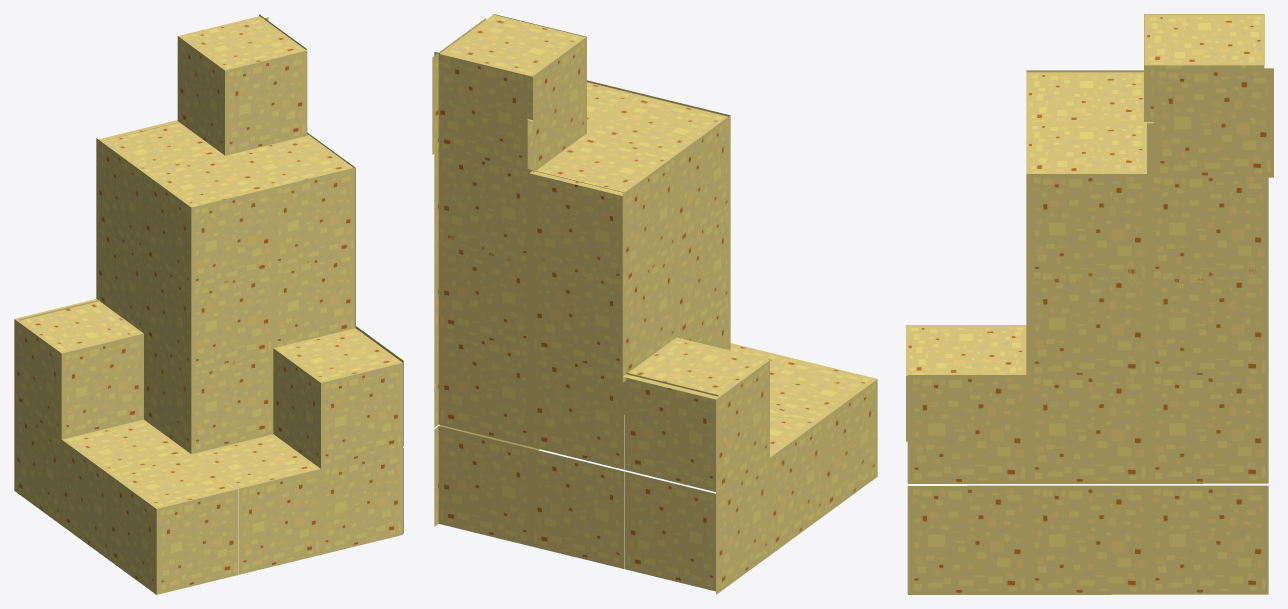
File: wall_1_closed.gltf
3 renders of one model, left to right at view 1: azimuth 30°, elevation 25°; view 2: azimuth 150°, elevation 25°; view 3: azimuth 270°, elevation 25°, orthographic. The views are drawn at different scales.
Parts seen in each view (by area): view 1: Plane, Plane.008, Plane.016, Plane.028, Plane.009, Plane.010, Plane.003, Plane.022, Plane.011, Plane.023, Plane.019, Plane.001 (+19 smaller); view 2: Plane.032, Plane.033, Plane.036, Plane.035, Plane.038, Plane.039, Plane.031, Plane.042, Plane.040, Plane.034, Plane.041, Plane.025 (+18 smaller); view 3: Plane.044, Plane.047, Plane.043, Plane.050, Plane.046, Plane.037, Plane.045, Plane.048, Plane.049, Plane.051, Plane.052, Plane.030 (+4 smaller).
Part boxes in pixels (<box>): Plane: <box>156,489,238,594</box>; Plane.008: <box>61,333,143,439</box>; Plane.016: <box>191,268,273,373</box>; Plane.028: <box>225,50,307,155</box>; Plane.009: <box>321,449,402,554</box>; Plane.010: <box>321,363,402,468</box>; Plane.003: <box>239,469,320,574</box>; Plane.022: <box>191,187,273,292</box>; Plane.011: <box>191,354,273,453</box>; Plane.023: <box>273,167,355,273</box>; Plane.019: <box>273,247,355,347</box>; Plane.001: <box>109,474,156,594</box>; Plane.032: <box>531,449,624,568</box>; Plane.033: <box>438,426,531,546</box>; Plane.036: <box>438,328,531,446</box>; Plane.035: <box>531,349,624,469</box>; Plane.038: <box>531,255,622,374</box>; Plane.039: <box>438,232,531,351</box>; Plane.031: <box>625,471,715,591</box>; Plane.042: <box>438,149,531,267</box>; Plane.040: <box>434,51,527,171</box>; Plane.034: <box>625,372,718,491</box>; Plane.041: <box>531,170,624,289</box>; Plane.025: <box>622,155,676,291</box>; Plane.044: <box>1148,485,1268,594</box>; Plane.047: <box>1148,374,1268,483</box>; Plane.043: <box>1028,485,1148,594</box>; Plane.050: <box>1153,68,1273,177</box>; Plane.046: <box>1028,374,1148,483</box>; Plane.037: <box>907,485,1027,594</box>; Plane.045: <box>907,375,1027,483</box>; Plane.048: <box>1028,269,1148,378</box>; Plane.049: <box>1148,269,1268,377</box>; Plane.051: <box>1028,174,1148,283</box>; Plane.052: <box>1148,174,1268,283</box>; Plane.030: <box>1144,14,1264,65</box>.
Bounding box in the file's own units: 6.11 × 9.68 × 6.11.
1 material, 1 textured.
